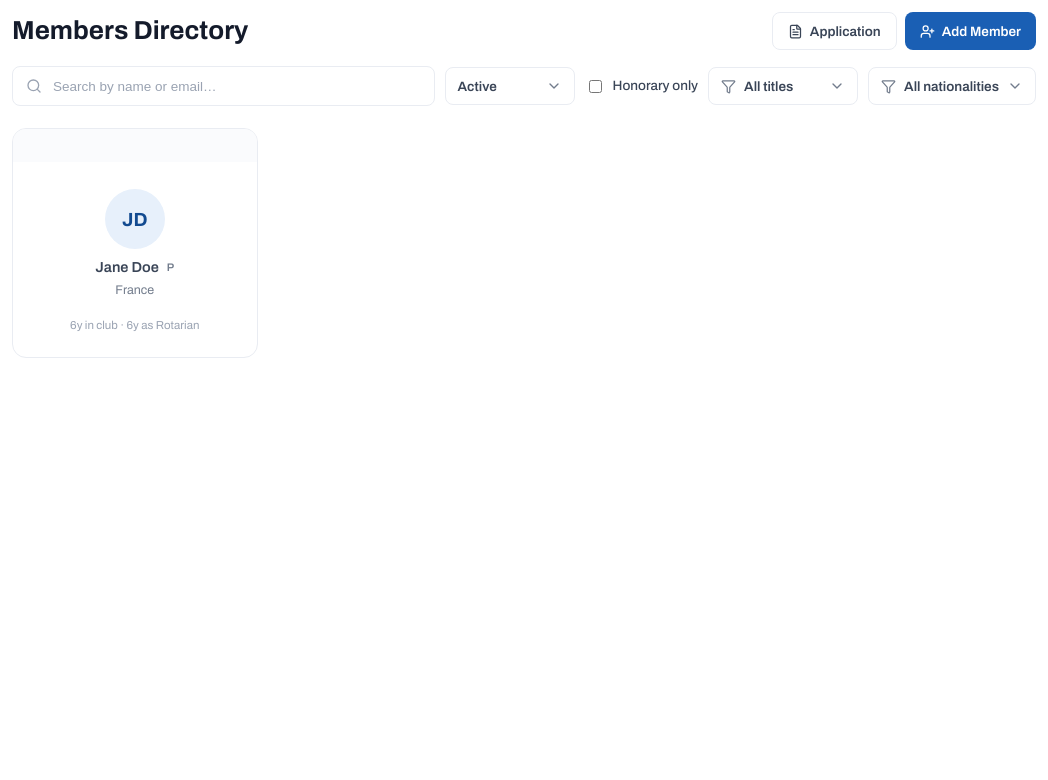
Test: MembersList › as admin › opens member detail with edit and mark-as-past controls on card click
Click the text "Jane Doe".
click(127, 268)  # box [95, 256, 159, 279]
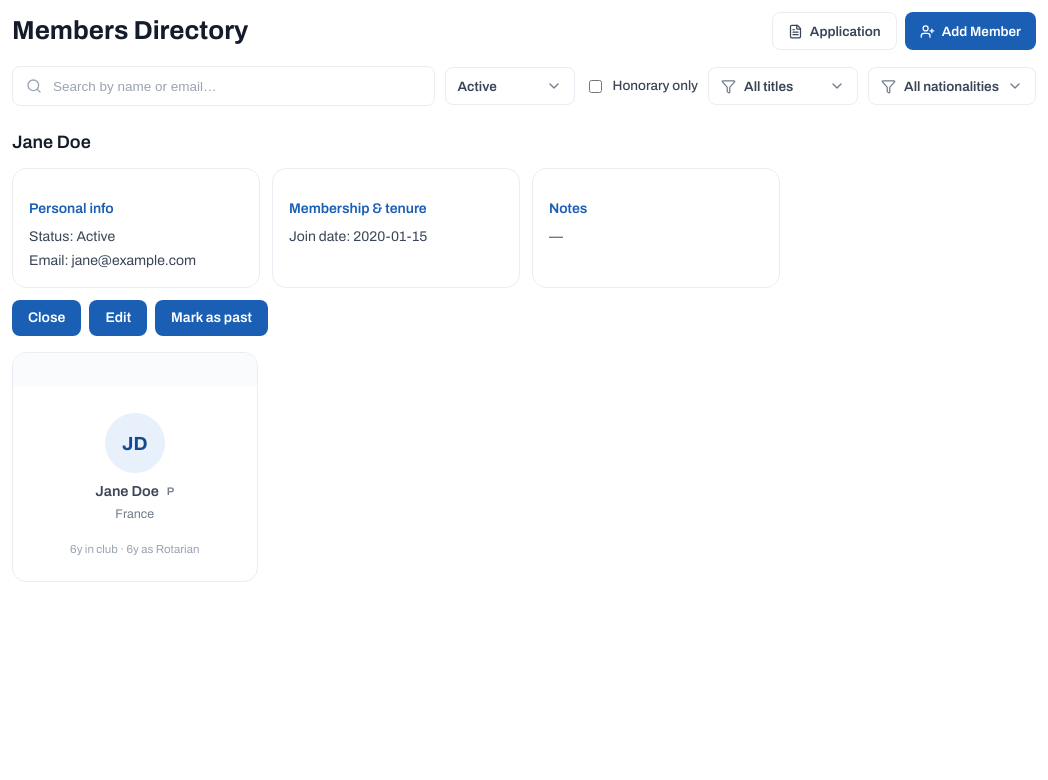
expect the heading "Jane Doe" is shown: met, box [12, 132, 91, 152]
expect the button "Edit" is shown: met, box [89, 300, 147, 336]
expect the button "Mark as past" is shown: met, box [155, 300, 268, 336]
